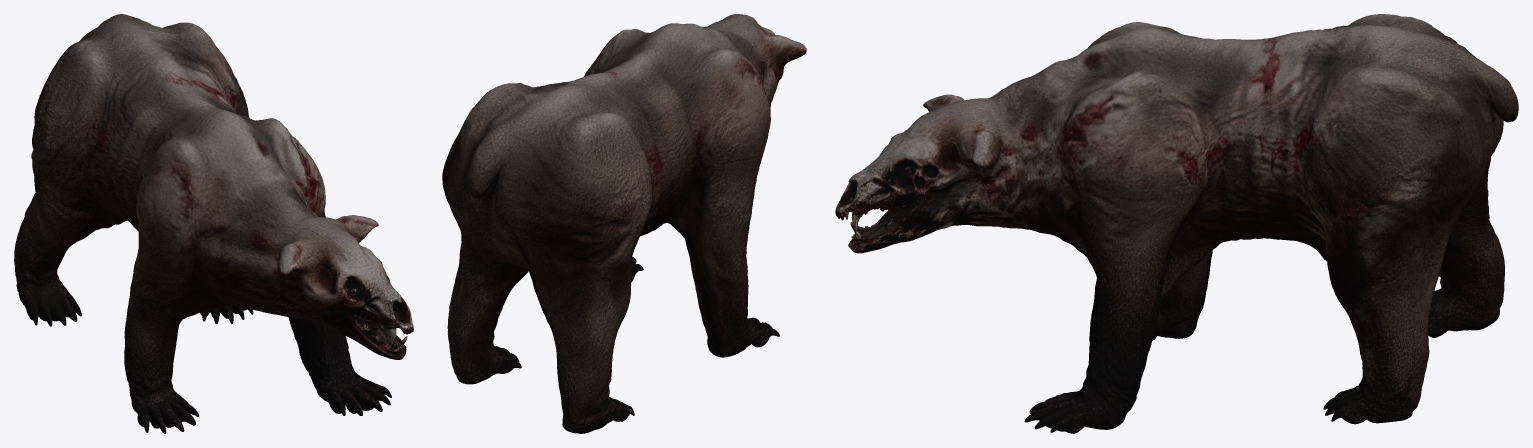
Rendered from skinny_bear.stl.fbx.
3 renders of one model, left to right at view 1: azimuth 30°, elevation 25°; view 2: azimuth 150°, elevation 25°; view 3: azimuth 270°, elevation 25°, orthographic. The views are drawn at different scales.
Visible parts, largest first — view 1: meshes[0]; view 2: meshes[0]; view 3: meshes[0].
Part boxes in pixels (x1,y1,x2,y2): meshes[0]: [14, 14, 413, 433]; meshes[0]: [442, 14, 806, 433]; meshes[0]: [835, 14, 1518, 433].
Bounding box in the file's own units: 0.4305 × 0.5695 × 1.
1 material, 1 textured.
